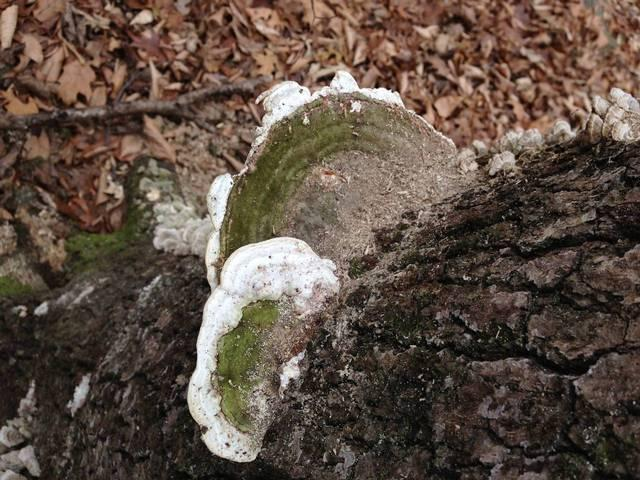Non-edible Mushroom: (193, 68, 474, 264), (185, 235, 341, 463)
